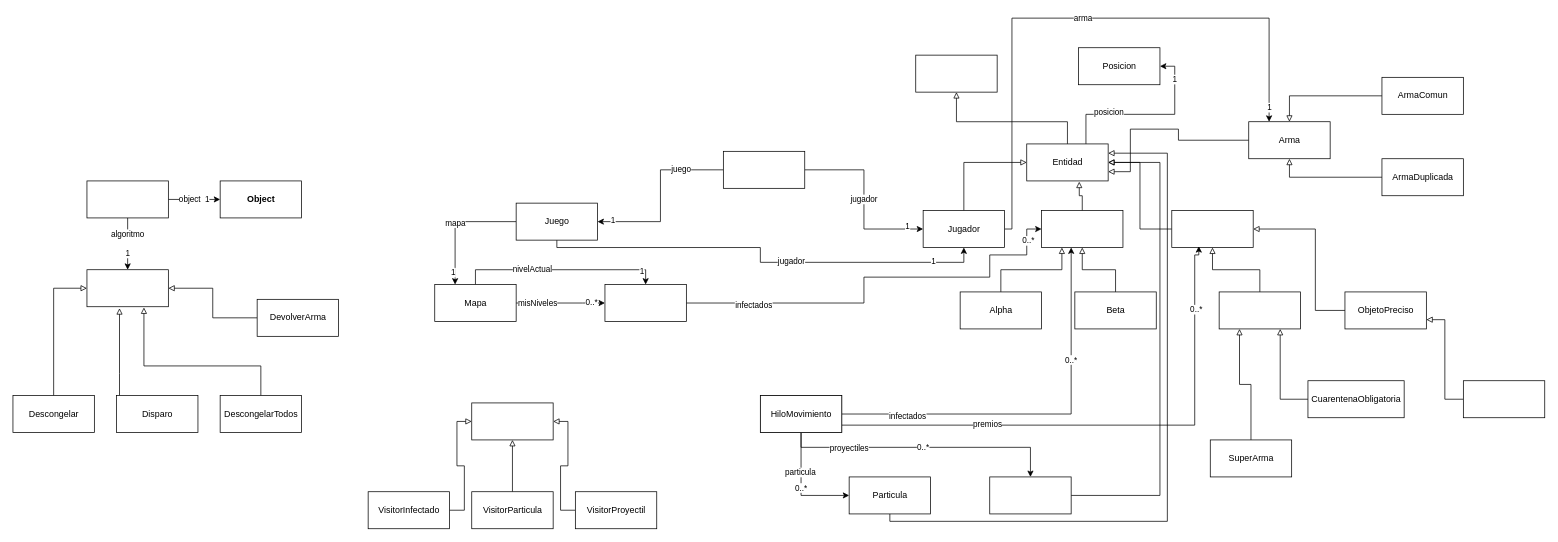
The diagram is 1558 pixels wide and 542 high, and some of its shapes have lost their labels. The centre of each missing label's shape, as x and y in pixels:
"Algoritmo" goes at point (127, 288).
"AutoAlgoritmo" goes at point (127, 199).
"EfectoTemporal" goes at point (1259, 310).
"GUI_juego" goes at point (764, 169).
"Infectado" goes at point (1082, 229).
"JLabel" goes at point (956, 73).
"Nivel" goes at point (645, 303).
"Premio" goes at point (1212, 229).
"Proyectil" goes at point (1030, 495).
"RecuperarVida" goes at point (1504, 399).
"Visitor" goes at point (512, 421).
